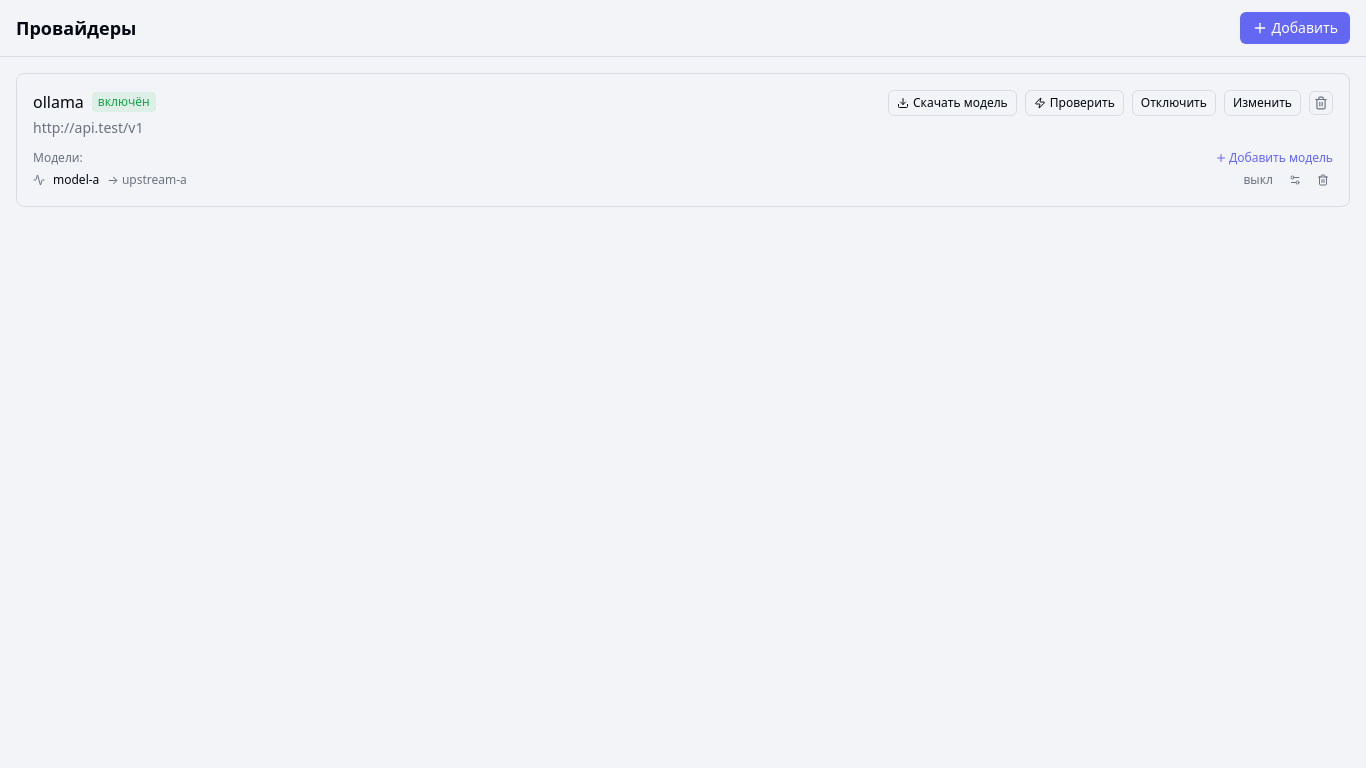
Test case: ProvidersPage: удаление модели (T-443, коммит 2) › для ollama-провайдера чекбокс очистки с диска доступен (по умолчанию выключен)
The width and height of the screenshot is (1366, 768).
Click the button named "Удалить модель" at (1323, 180), box [1313,172,1333,188]
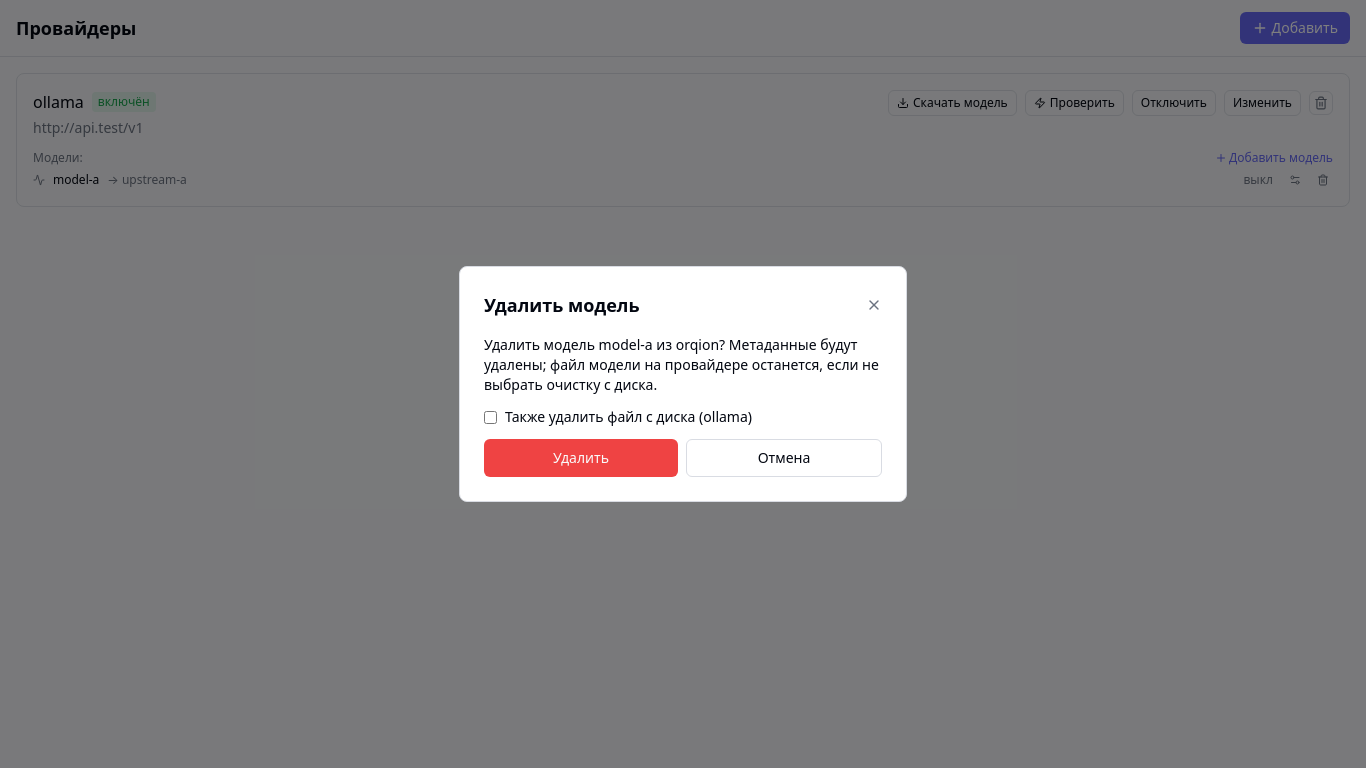
Expected: the checkbox is not checked, [484,410,497,424]
